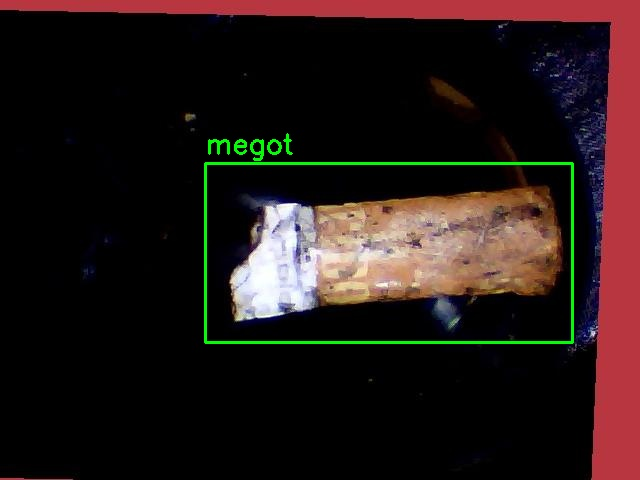megot: (205, 163, 572, 342)
